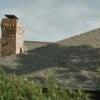Chimney: (1, 7, 29, 64)
